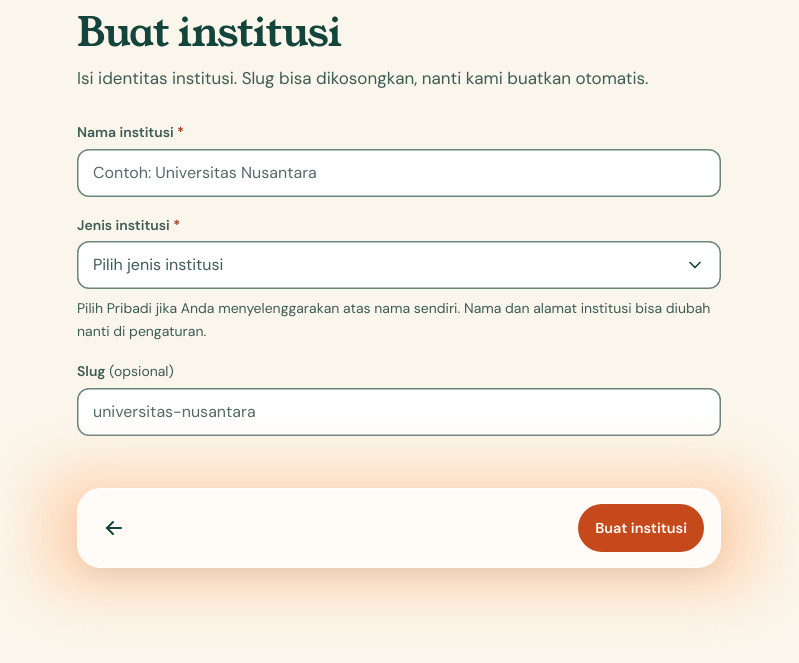
it: the workspace create form › offers the five kinds in order with none picked and refuses a submit with no kind
The width and height of the screenshot is (799, 663).
In the field labelled "Nama institusi *": (399, 173) [77, 149, 721, 197], type "Ruang Uji"
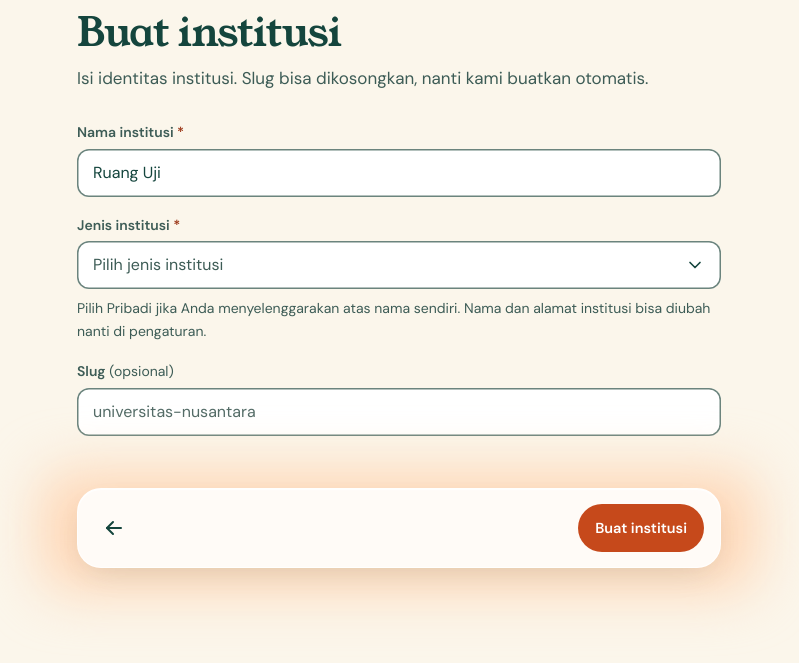
Click the dropdown named "Jenis institusi (wajib)": (158, 265) [77, 241, 721, 289]
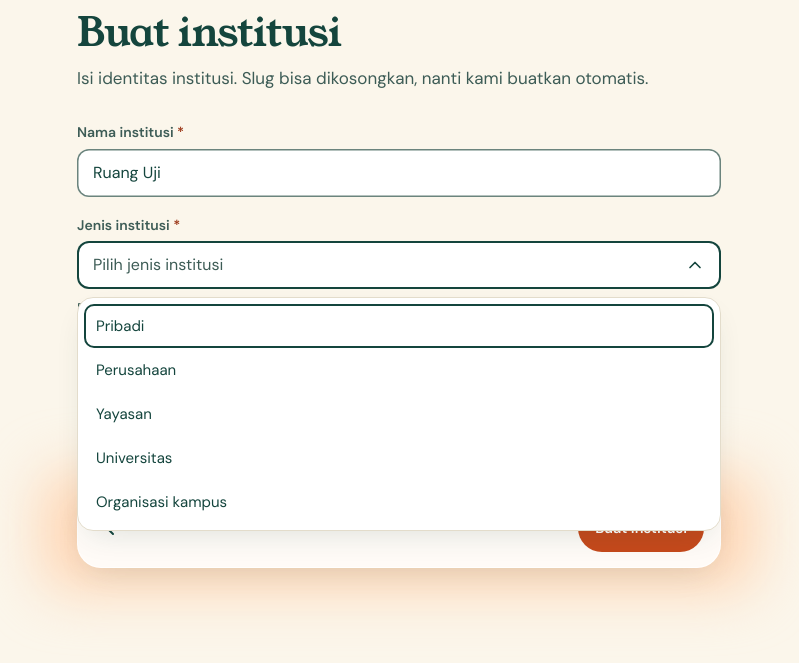
Expected: the options read "Pribadi", "Perusahaan", "Yayasan", "Universitas", "Organisasi kampus", in this order
Press Escape in the option "Pribadi", box [96, 316, 144, 336]
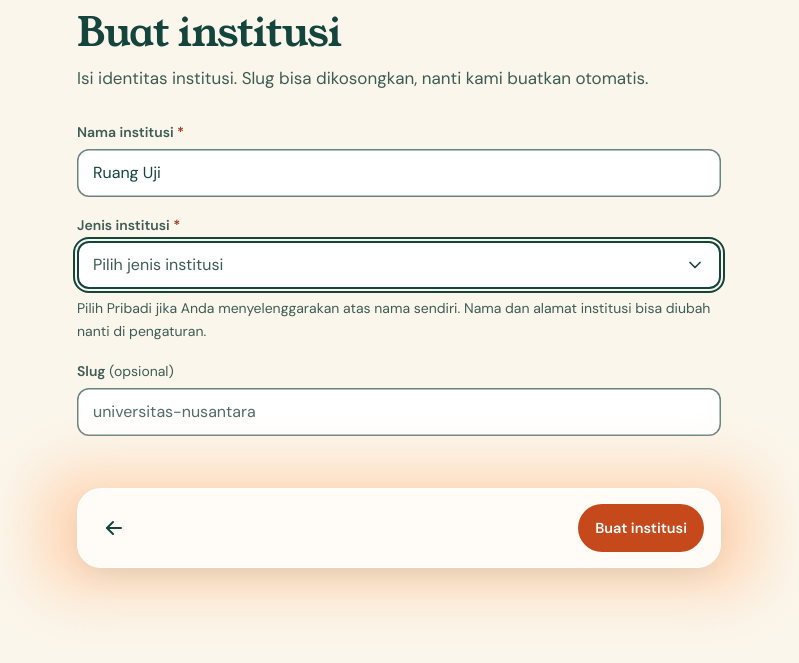
Click the button "Buat institusi": (641, 528) [578, 504, 704, 552]
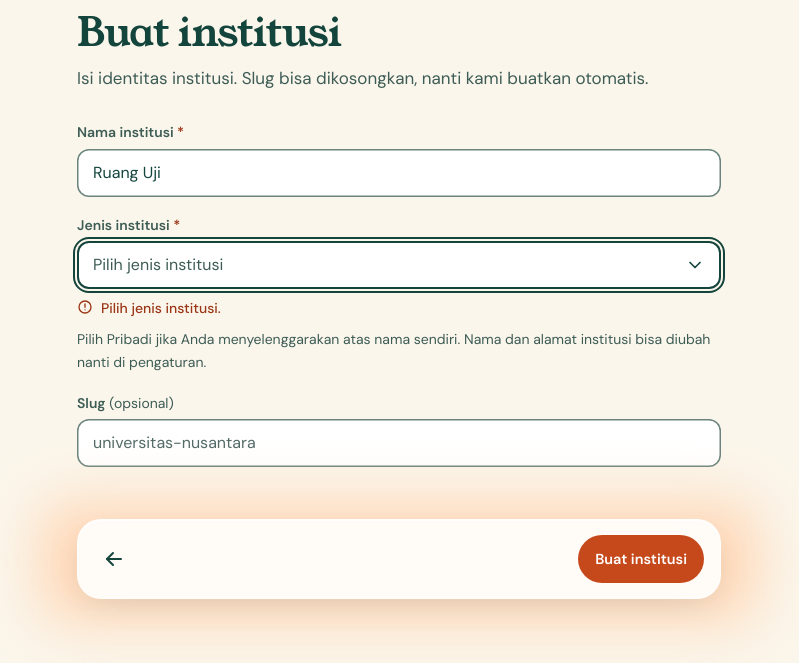
Expected: the text "Pilih Pribadi jika Anda menyelenggarakan atas nama sendiri. Nama dan alamat institusi bisa diubah nanti di pengaturan." is shown, [77, 330, 710, 372]
Expected: the text "Pilih jenis institusi." is shown, [101, 297, 221, 320]
